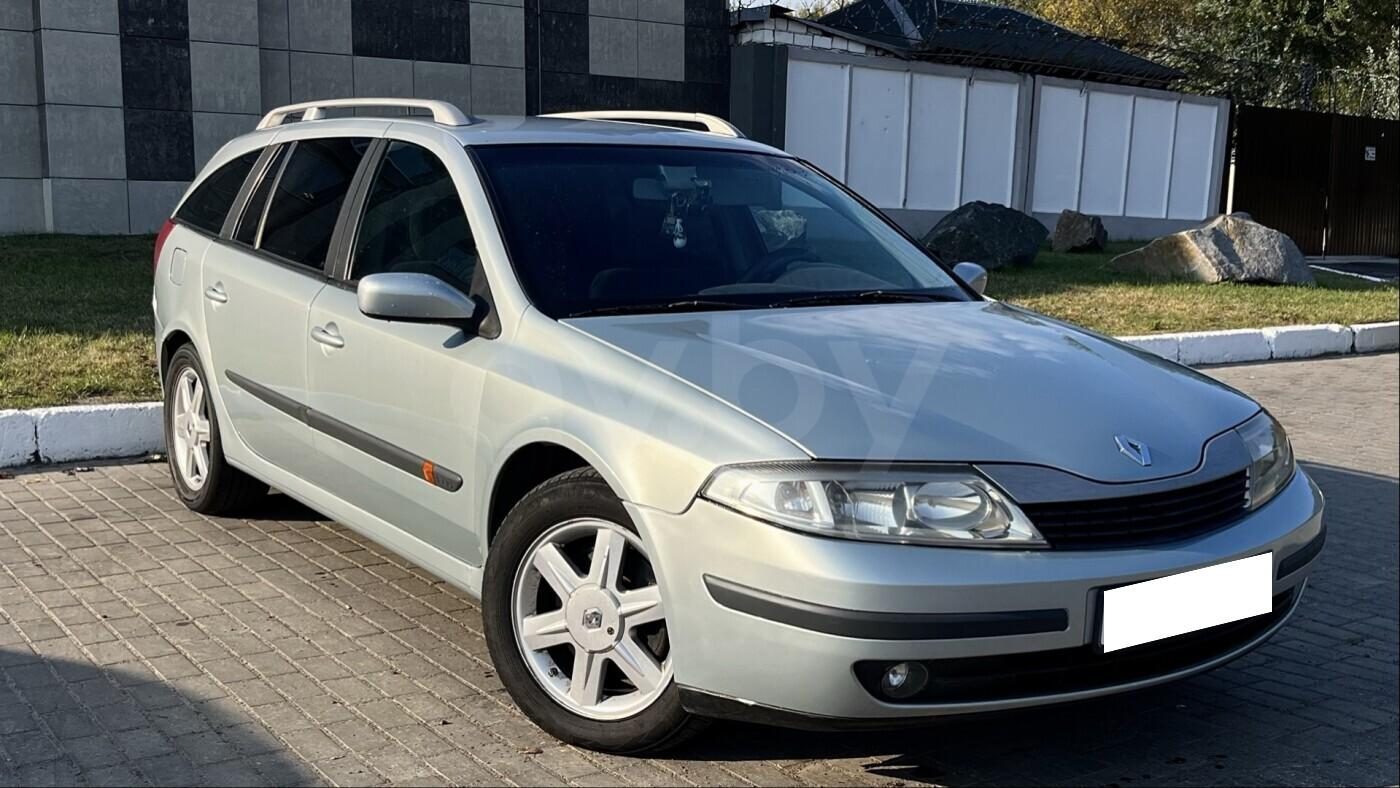Laguna_2001-2005: (152, 98, 1324, 753)
